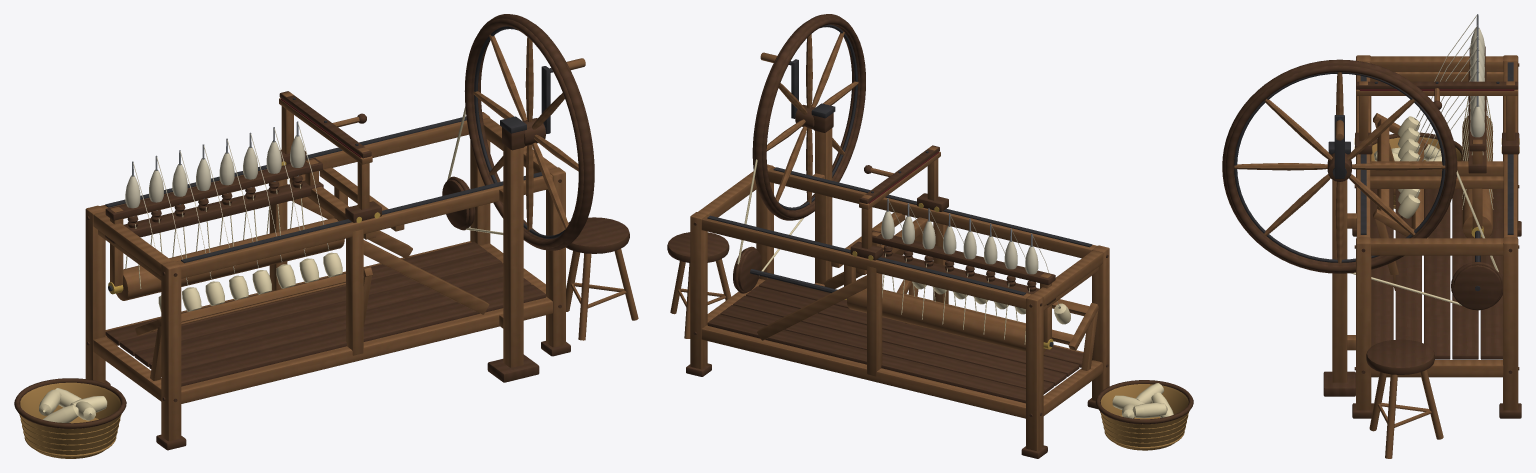
Rendered from jenny.glb.
3 renders of one model, left to right at view 1: azimuth 30°, elevation 25°; view 2: azimuth 150°, elevation 25°; view 3: azimuth 270°, elevation 25°, orthographic. The views are drawn at different scales.
Visible parts, largest first — view 1: mrg_jenny_wood, mrg_jenny_woodDark, mrg_wheel_woodDark, mrg_basket_wicker, mrg_wheel_wood, drum, mrg_jenny_iron, mrg_rovingRack_canvas, mrg_rovingRack_wood, mrg_stool_wood, mrg_carriage_wood, mrg_carriage_woodDark (+6 smaller); view 2: mrg_jenny_wood, mrg_jenny_woodDark, mrg_wheel_woodDark, drum, mrg_basket_wicker, mrg_jenny_iron, mrg_wheel_wood, mrg_carriage_woodDark, mrg_carriage_wood, mrg_basket_canvas, mrg_rovingRack_wood, mrg_stool_wood (+5 smaller); view 3: mrg_jenny_wood, mrg_jenny_woodDark, mrg_wheel_woodDark, mrg_wheel_wood, mrg_wheel_iron, mrg_stool_wood, stoolSeat0, mrg_carriage_wood, mrg_carriage_woodDark, mrg_rovingRack_wood, mrg_jenny_iron, drum (+6 smaller).
Part boxes in pixels (x1,y1,x2,y2): mrg_jenny_wood: [85, 112, 565, 441]; mrg_jenny_woodDark: [86, 127, 570, 450]; mrg_wheel_woodDark: [464, 14, 594, 250]; mrg_basket_wicker: [19, 382, 121, 458]; mrg_wheel_wood: [473, 34, 585, 231]; drum: [116, 218, 344, 300]; mrg_jenny_iron: [105, 116, 542, 291]; mrg_rovingRack_canvas: [158, 252, 342, 311]; mrg_rovingRack_wood: [135, 267, 372, 335]; mrg_stool_wood: [566, 248, 638, 340]; mrg_carriage_wood: [279, 92, 372, 209]; mrg_carriage_woodDark: [279, 91, 381, 222]; mrg_jenny_wood: [690, 128, 1109, 450]; mrg_jenny_woodDark: [686, 113, 1108, 458]; mrg_wheel_woodDark: [752, 14, 865, 220]; drum: [847, 288, 1046, 352]; mrg_basket_wicker: [1100, 384, 1188, 450]; mrg_jenny_iron: [707, 103, 1092, 346]; mrg_wheel_wood: [760, 32, 858, 203]; mrg_carriage_woodDark: [850, 145, 948, 260]; mrg_carriage_wood: [859, 146, 940, 248]; mrg_basket_canvas: [1112, 383, 1173, 418]; mrg_rovingRack_wood: [897, 279, 1098, 350]; mrg_stool_wood: [670, 259, 731, 338]; mrg_jenny_wood: [1332, 55, 1518, 410]; mrg_jenny_woodDark: [1323, 46, 1521, 418]; mrg_wheel_woodDark: [1222, 59, 1457, 273]; mrg_wheel_wood: [1234, 72, 1445, 263]; mrg_wheel_iron: [1234, 72, 1445, 262]; mrg_stool_wood: [1369, 369, 1443, 458]; stoolSeat0: [1366, 339, 1434, 374]; mrg_carriage_wood: [1356, 81, 1518, 140]; mrg_carriage_woodDark: [1355, 81, 1519, 154]; mrg_rovingRack_wood: [1373, 113, 1428, 238]; mrg_jenny_iron: [1328, 62, 1513, 291]; drum: [1462, 115, 1492, 238].
Size of the model in its own units: 3.34 by 1.83 by 1.48.
9 materials, 7 textured.
